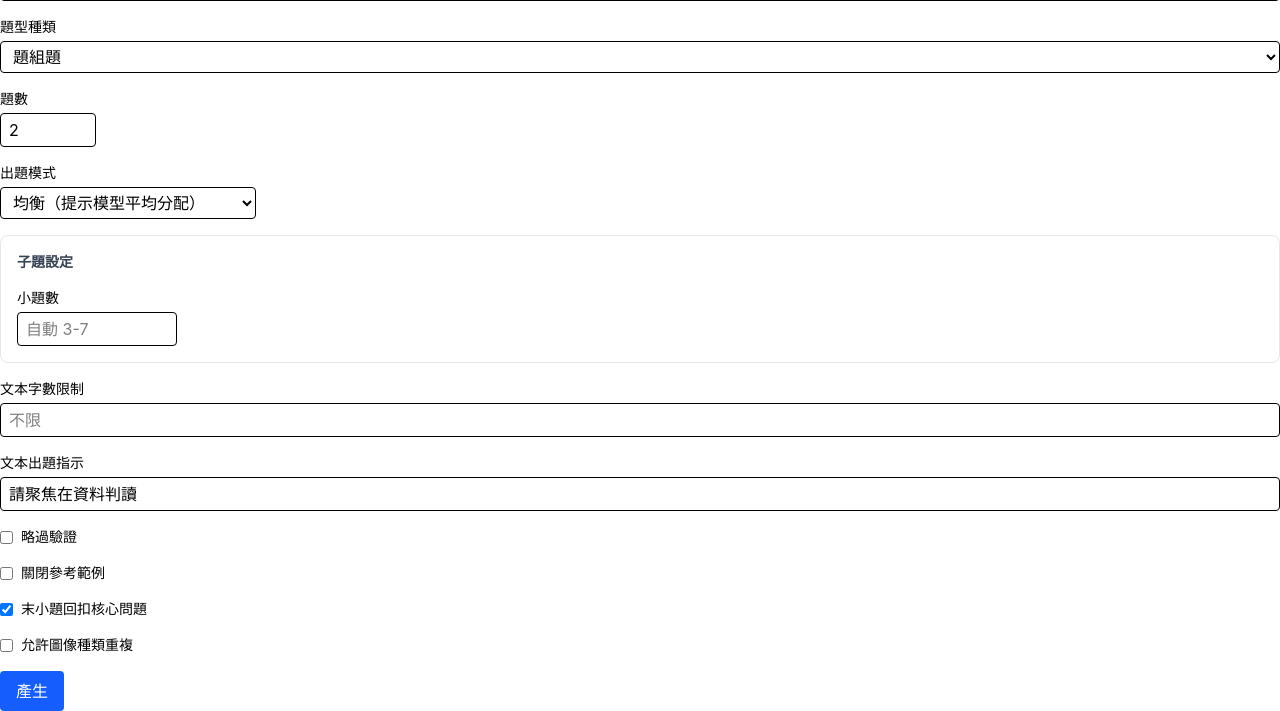
Test: ParamForm 確認頁修改 per-題組 文本出題指示 (#637) › prefills each 題組 textarea with the request-level text_instruction
(page scrolled)
Step 1. Click the button "產生" → {"x": 32, "y": 691}, box [0,671,64,710]
(page scrolled)
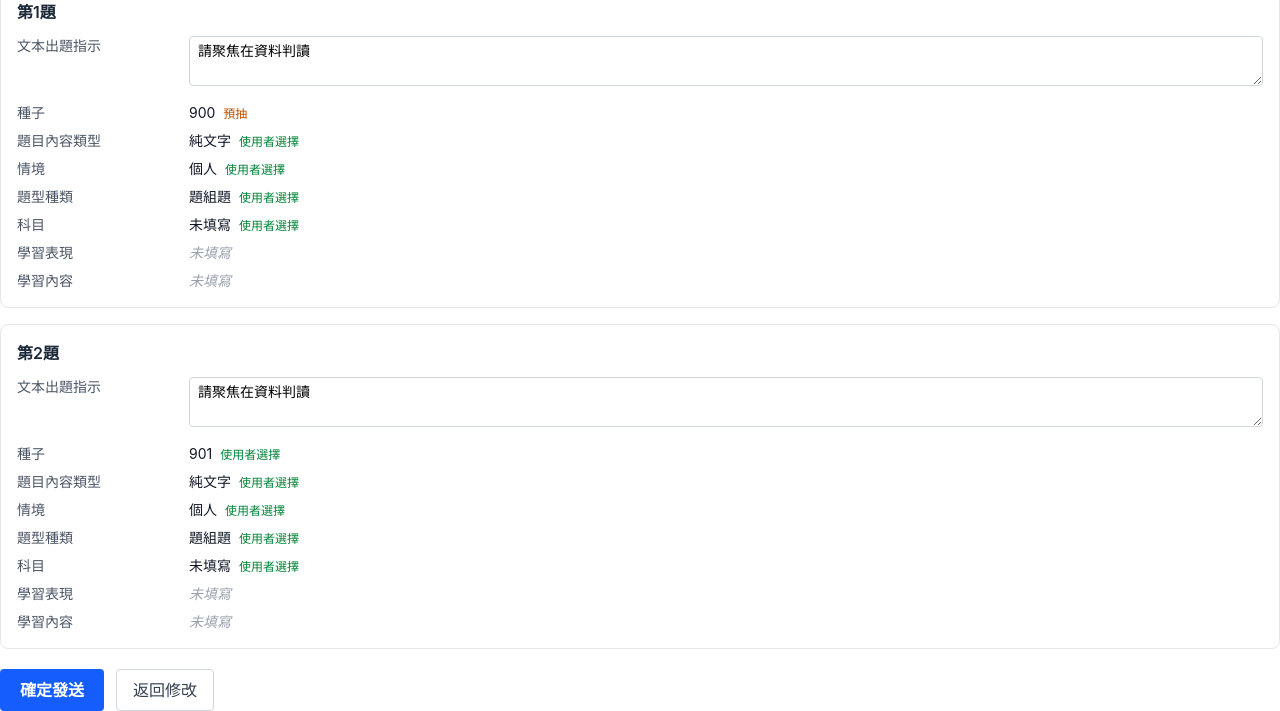
Expected: the text box labelled "文本出題指示" below "第1題" holds "請聚焦在資料判讀", [189,36,1263,86]
Expected: the text box labelled "文本出題指示" below "第2題" holds "請聚焦在資料判讀", [189,377,1263,427]
